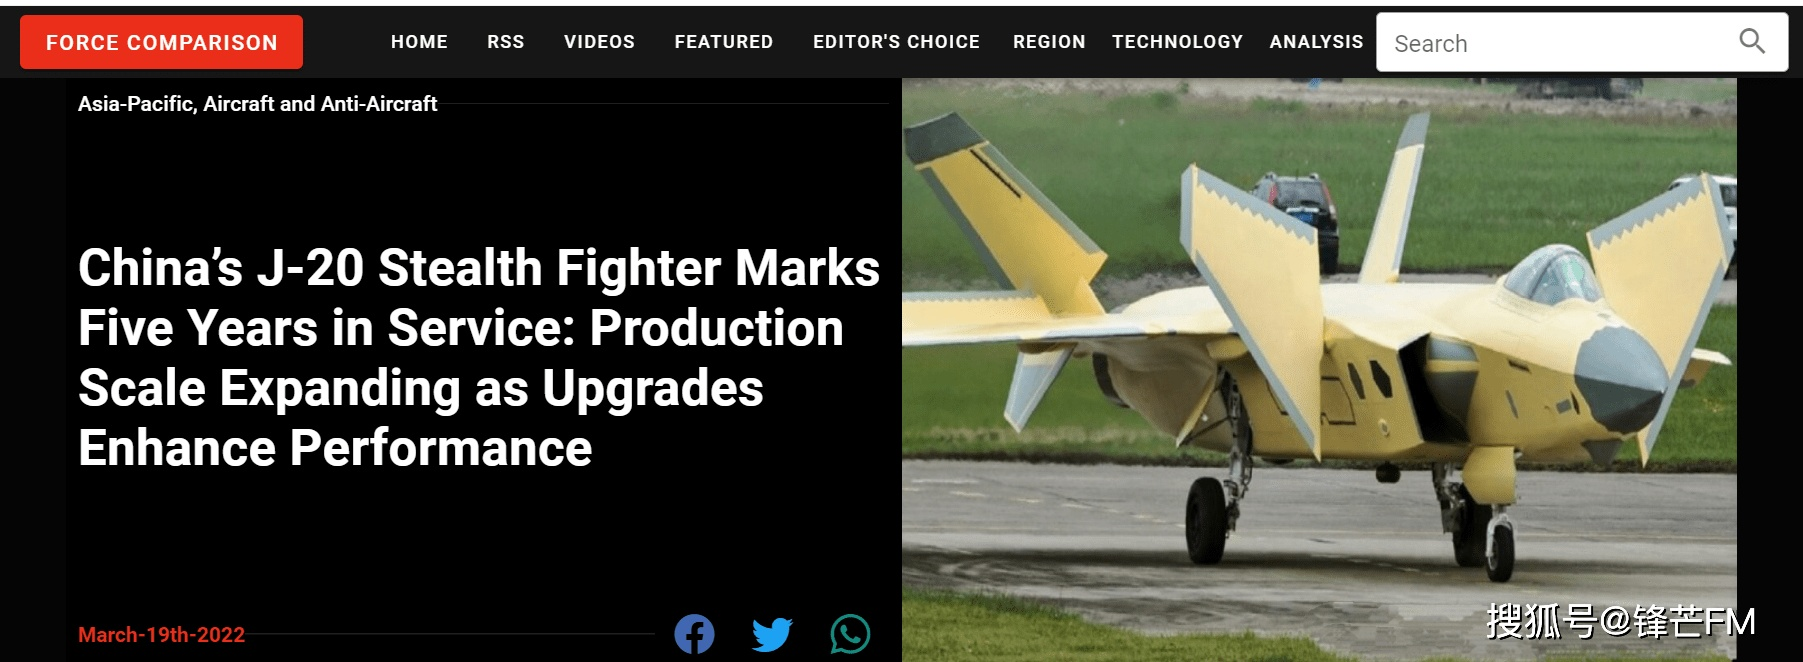J20: (901, 109, 1735, 582)
